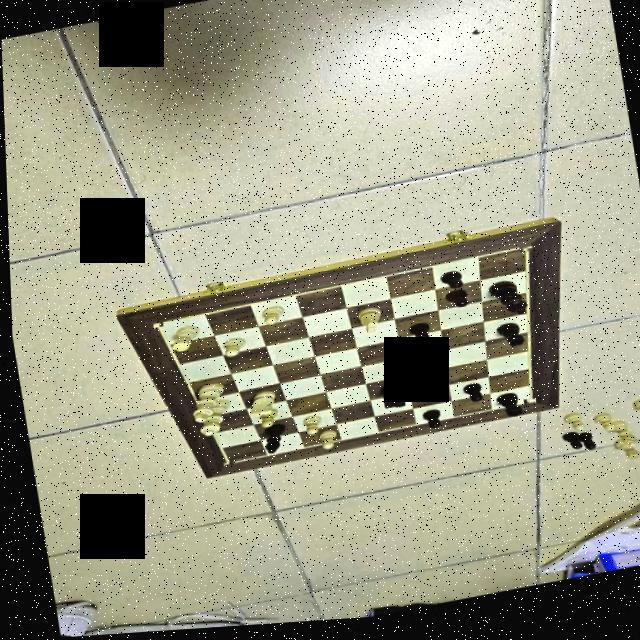chess-table-corners: (516, 248, 530, 258), (520, 403, 532, 411), (218, 460, 230, 468), (149, 321, 160, 328)
